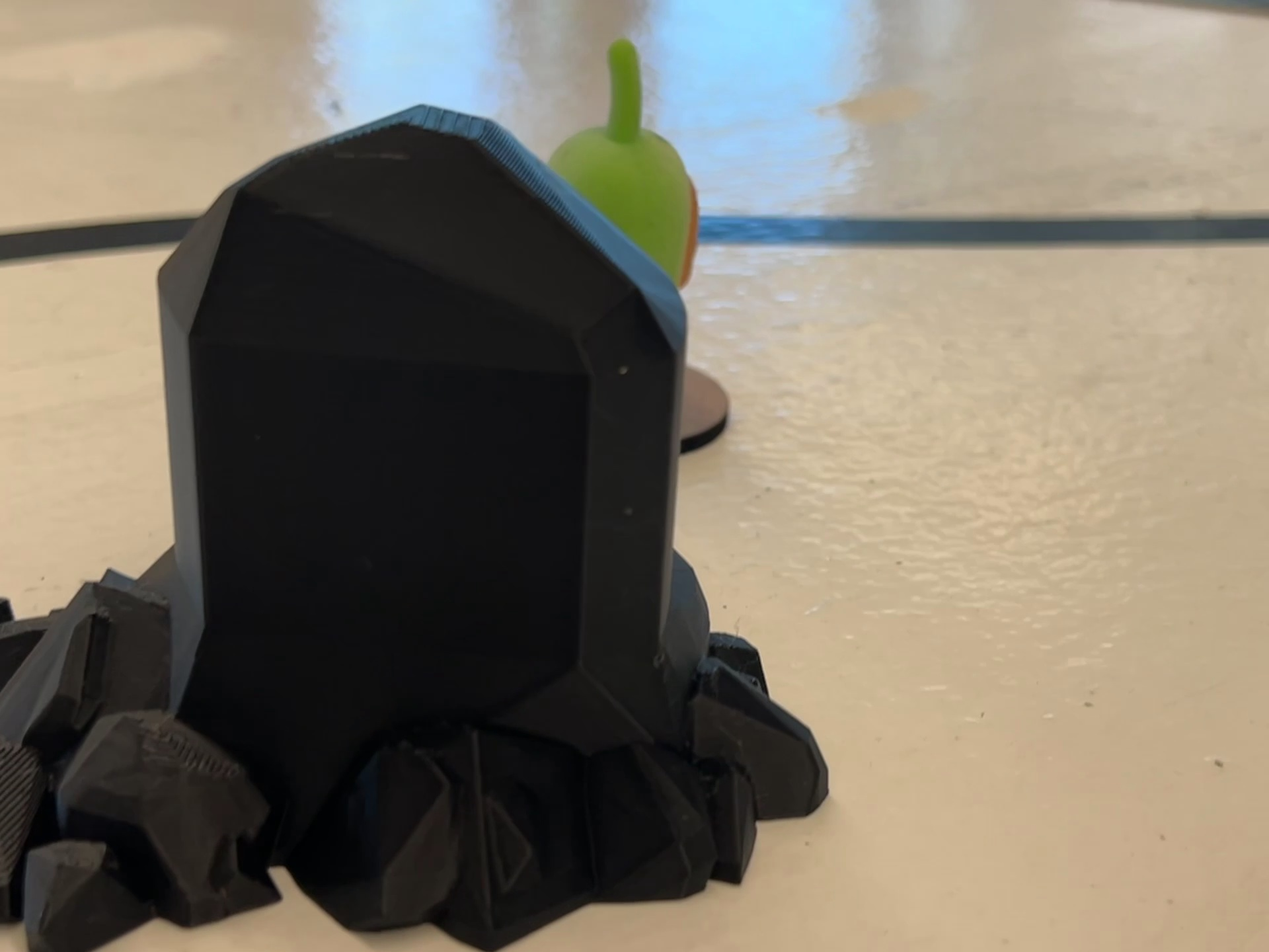teletubby: (548, 39, 699, 288)
